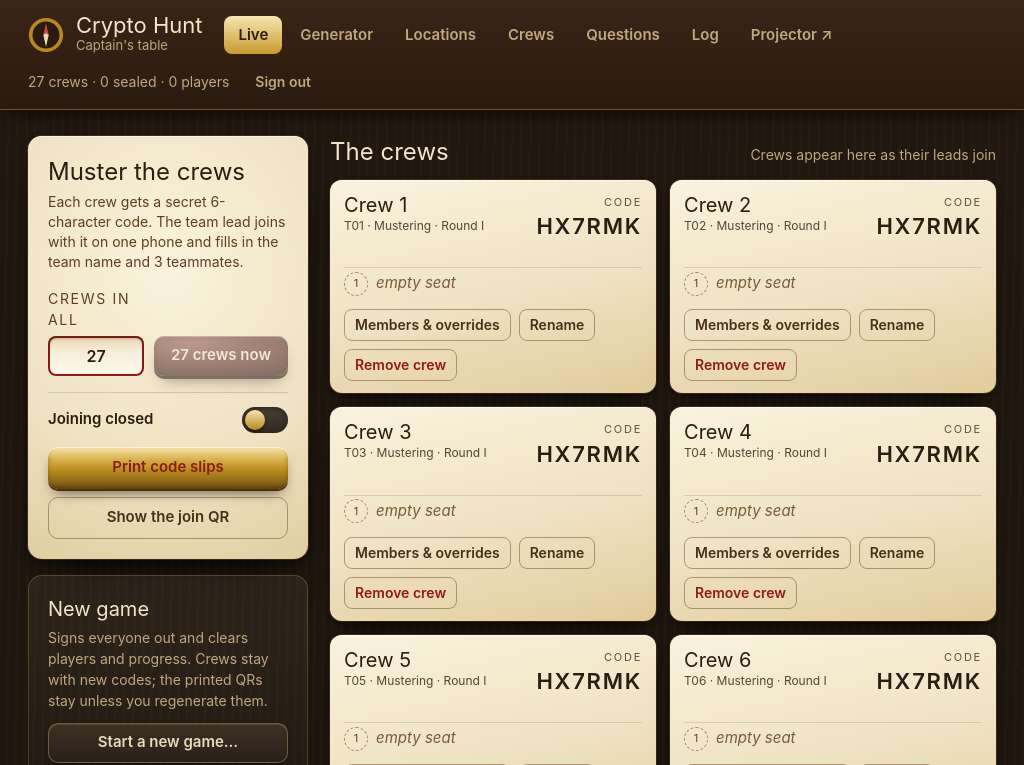
crew count (D-046) › the box is the total: 27 crews and 27 typed adds nothing; 30 adds 3; 25 removes 2 empty ones
The width and height of the screenshot is (1024, 765).
Expected: the button "27 crews now" is disabled, [154,336,288,376]
Replace the text in the field labelled "CREWS IN ALL" with "30" at x=96, y=356, box [48,336,144,376]
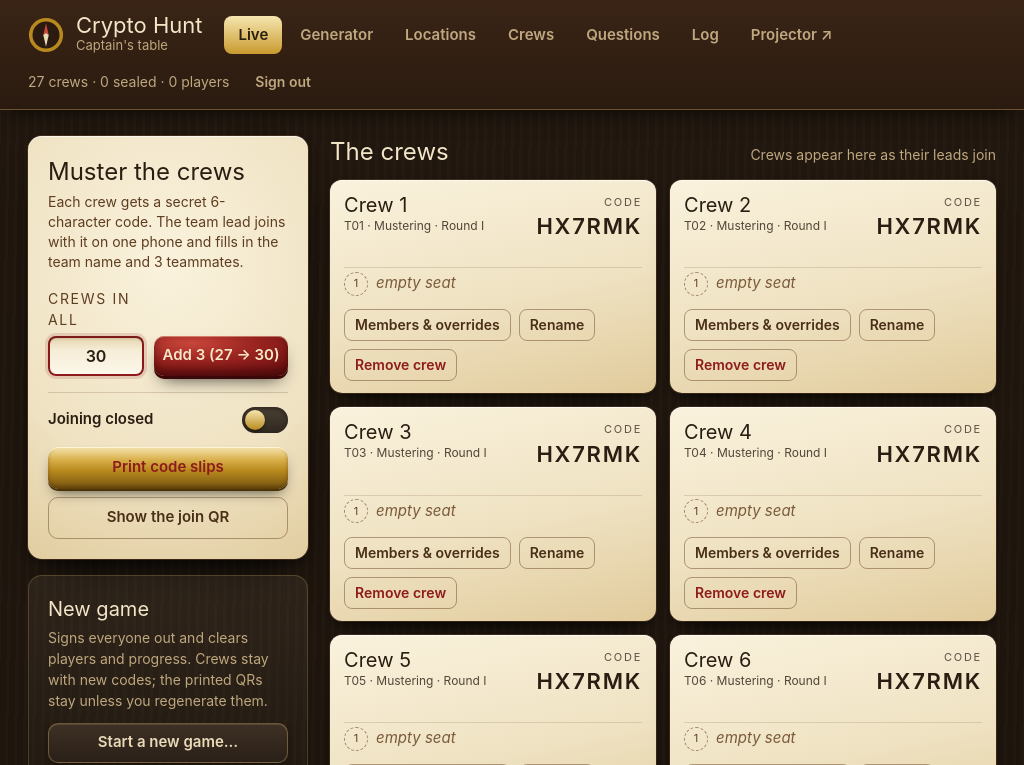
Click the button "Add 3 (27 → 30)" at x=221, y=356, box [154,336,288,376]
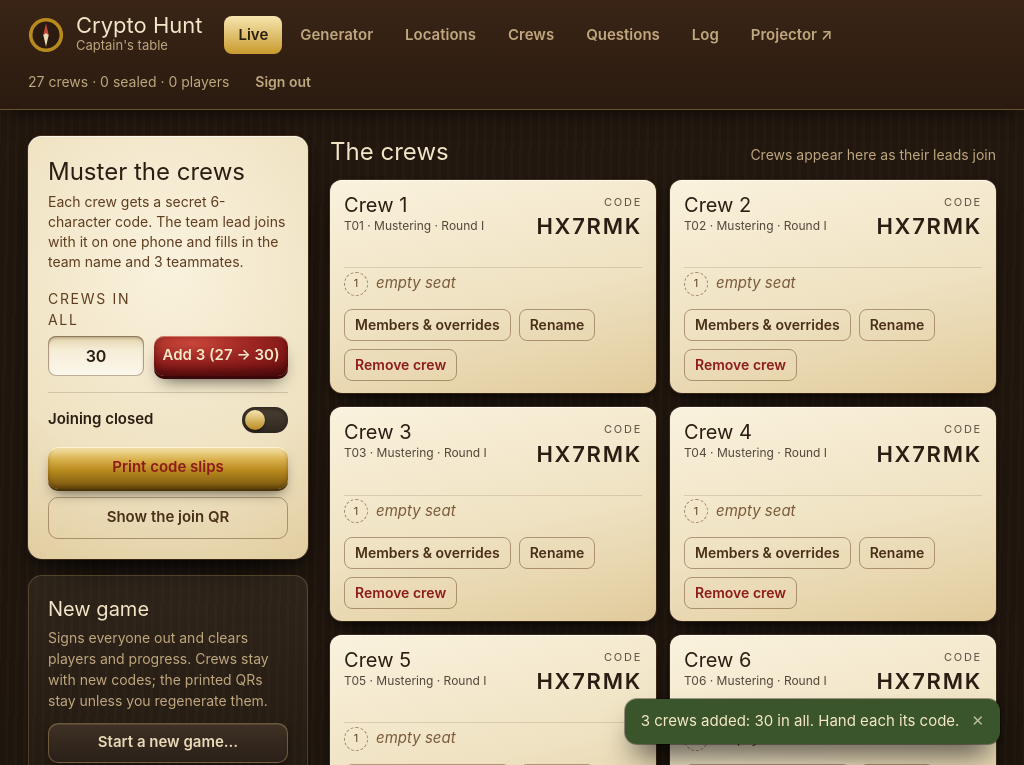
Replace the text in the field labelled "CREWS IN ALL" with "25" at x=96, y=356, box [48,336,144,376]
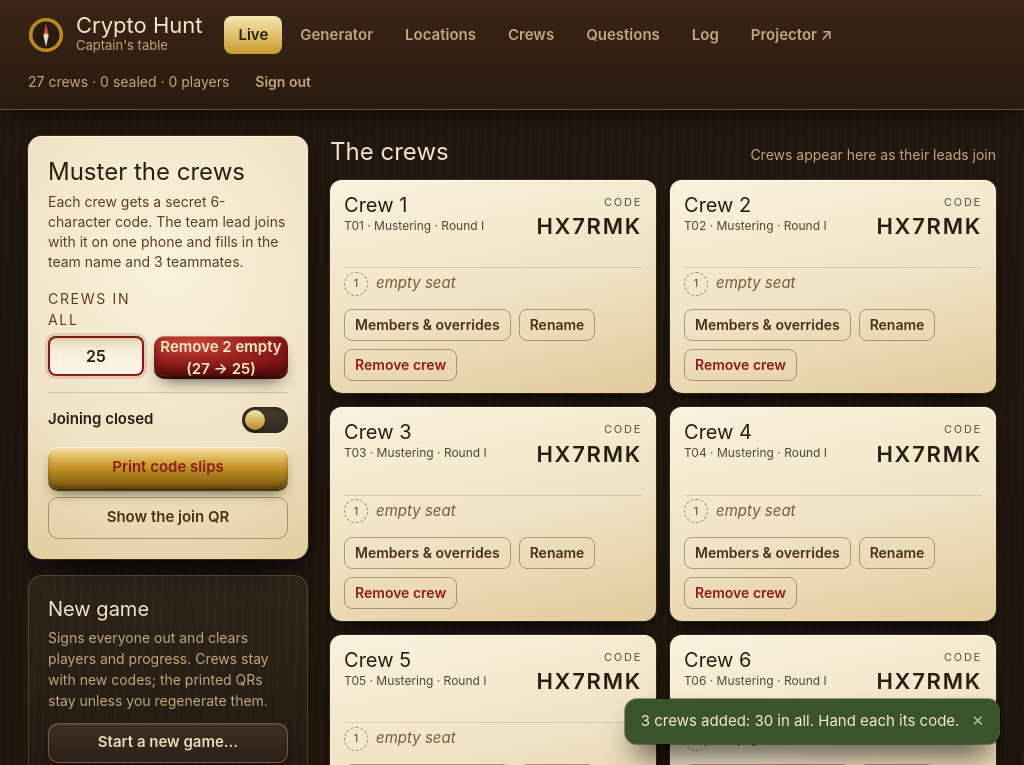
Expected: the button "Remove 2 empty (27 → 25)" is shown, [154,336,288,376]
